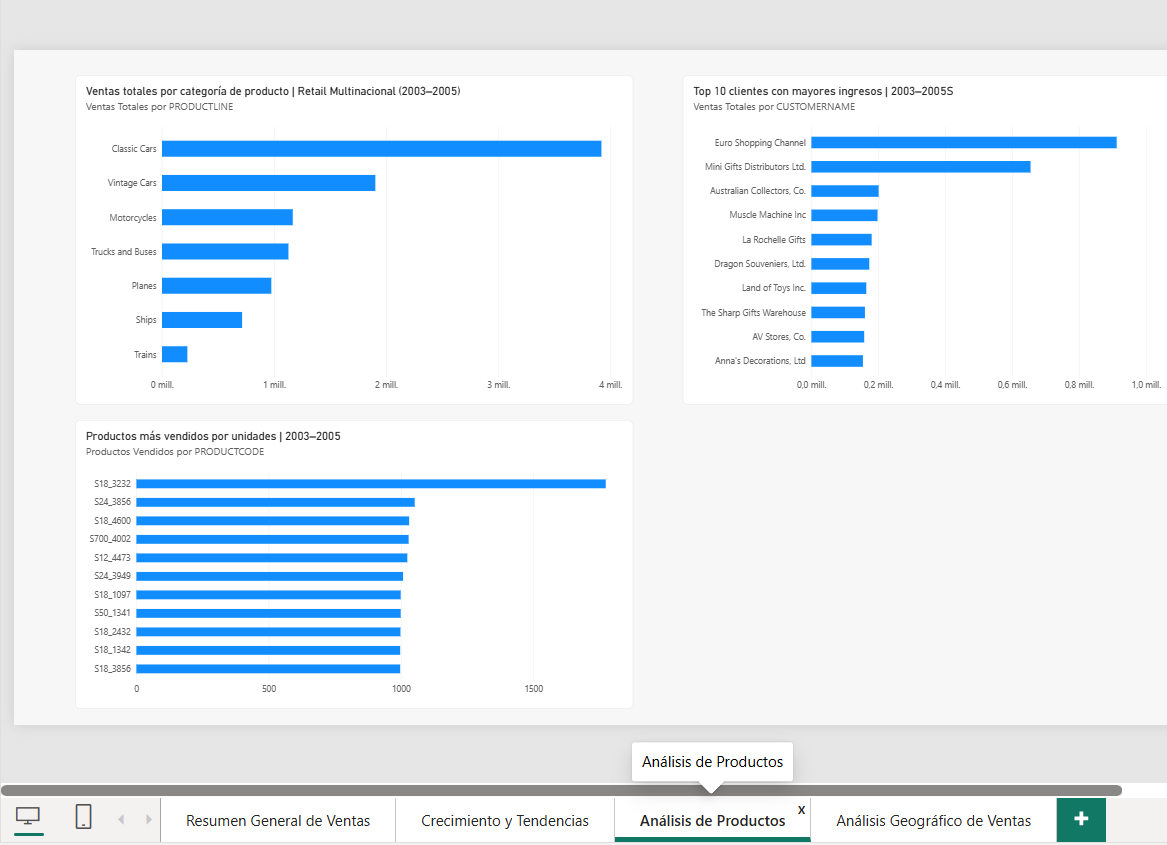

Layout of this report page (visuals, bound fields, positions):
{"tool":"powerbi","page":{"name":"Análisis de Productos","canvas":[1920,1080],"ordinal":2},"visuals":[{"type":"clusteredBarChart","title":"Ventas totales por categoría de producto | Retail Multinacional (2003–2005)","fields":{"Category":["sales_data_sample.PRODUCTLINE"],"Y":["sales_data_sample.Ventas Totales"]},"box":[97.5,40,892.5,527.5],"z":0},{"type":"clusteredBarChart","title":"Productos más vendidos por unidades | 2003–2005","fields":{"Category":["sales_data_sample.PRODUCTCODE"],"Y":["sales_data_sample.Productos Vendidos"]},"box":[97.5,592.5,893,462],"z":1000},{"type":"clusteredBarChart","title":"Top 10 clientes con mayores ingresos | 2003–2005S","fields":{"Category":["sales_data_sample.CUSTOMERNAME"],"Y":["sales_data_sample.Ventas Totales"]},"box":[1070,40,782.5,527.5],"z":2000}]}

Visuals, with their boxes on the page's 1920x1080 design canvas (x1, y1, x2, y2). These are canvas units, not pixel positions in the 1167x845 screenshot, which may show the page scaled, cropped or inside an application window:
"Ventas totales por categoría de producto | Retail Multinacional (2003–2005)" clusteredBarChart: (left=98, top=40, right=990, bottom=568)
"Productos más vendidos por unidades | 2003–2005" clusteredBarChart: (left=98, top=592, right=990, bottom=1054)
"Top 10 clientes con mayores ingresos | 2003–2005S" clusteredBarChart: (left=1070, top=40, right=1852, bottom=568)
